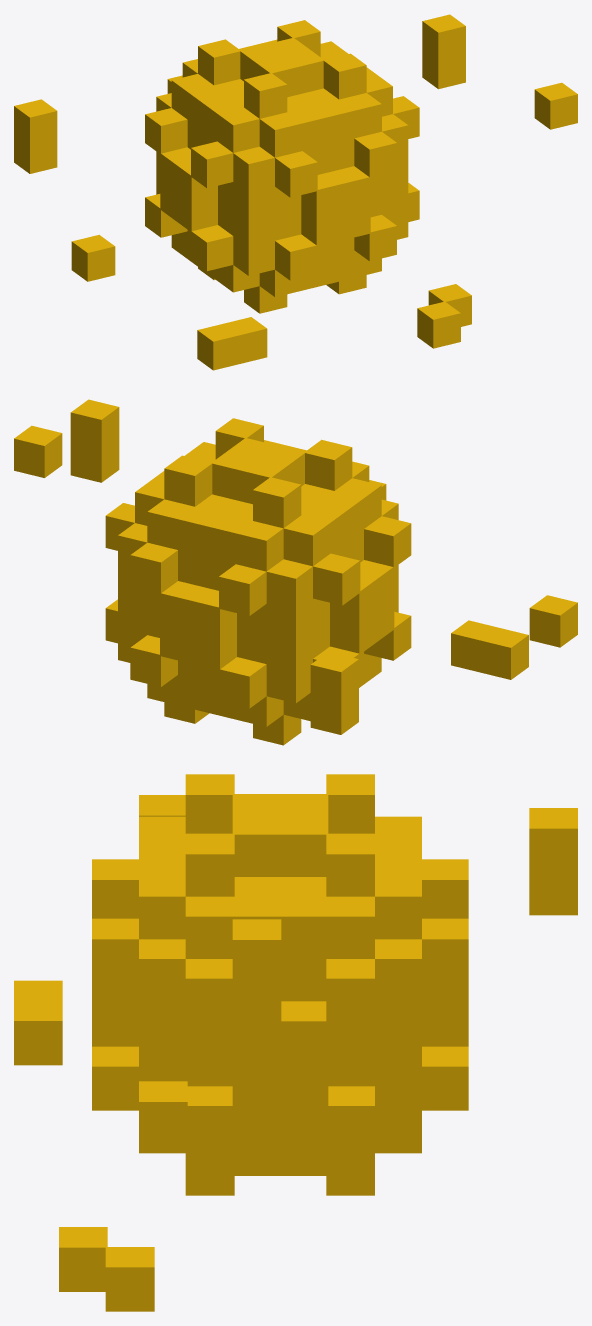
File: Boss_core_BIG.fbx
3 renders of one model, top to bottom at view 1: azimuth 30°, elevation 25°; view 2: azimuth 150°, elevation 25°; view 3: azimuth 270°, elevation 25°, orthographic. The views are drawn at different scales.
Visible parts, largest first — view 1: Boss_core_BIG266, Boss_core_BIG274, Boss_core_BIG265, Boss_core_BIG271, Boss_core_BIG270, Boss_core_BIG268, Boss_core_BIG104, Boss_core_BIG96, Boss_core_BIG73, Boss_core_BIG82, Boss_core_BIG106, Boss_core_BIG129 (+48 smaller); view 2: Boss_core_BIG268, Boss_core_BIG265, Boss_core_BIG270, Boss_core_BIG266, Boss_core_BIG271, Boss_core_BIG119, Boss_core_BIG97, Boss_core_BIG103, Boss_core_BIG84, Boss_core_BIG108, Boss_core_BIG130, Boss_core_BIG96 (+51 smaller); view 3: Boss_core_BIG268, Boss_core_BIG273, Boss_core_BIG265, Boss_core_BIG272, Boss_core_BIG82, Boss_core_BIG270, Boss_core_BIG75, Boss_core_BIG74, Boss_core_BIG84, Boss_core_BIG130, Boss_core_BIG114, Boss_core_BIG100 (+59 smaller).
Part boxes in pixels (x1,y1,x2,y2): Boss_core_BIG266: [71, 234, 115, 281]; Boss_core_BIG274: [417, 301, 460, 348]; Boss_core_BIG265: [534, 82, 577, 129]; Boss_core_BIG271: [197, 323, 240, 370]; Boss_core_BIG270: [14, 99, 57, 145]; Boss_core_BIG268: [422, 14, 465, 61]; Boss_core_BIG104: [275, 151, 317, 197]; Boss_core_BIG96: [191, 141, 233, 188]; Boss_core_BIG73: [244, 73, 287, 118]; Boss_core_BIG82: [323, 53, 366, 99]; Boss_core_BIG106: [275, 234, 317, 280]; Boss_core_BIG129: [191, 225, 233, 271]; Boss_core_BIG268: [70, 399, 119, 451]; Boss_core_BIG265: [14, 425, 62, 477]; Boss_core_BIG270: [310, 651, 358, 703]; Boss_core_BIG266: [529, 595, 577, 647]; Boss_core_BIG271: [480, 628, 528, 679]; Boss_core_BIG119: [219, 564, 266, 615]; Boss_core_BIG97: [313, 553, 360, 605]; Boss_core_BIG103: [253, 477, 301, 528]; Boss_core_BIG84: [164, 455, 212, 506]; Boss_core_BIG108: [219, 657, 266, 708]; Boss_core_BIG130: [130, 542, 177, 594]; Boss_core_BIG96: [364, 516, 411, 567]; Boss_core_BIG268: [232, 919, 281, 984]; Boss_core_BIG273: [105, 1247, 154, 1311]; Boss_core_BIG265: [139, 1081, 187, 1146]; Boss_core_BIG272: [14, 1000, 62, 1065]; Boss_core_BIG82: [185, 833, 234, 896]; Boss_core_BIG270: [529, 808, 577, 872]; Boss_core_BIG75: [326, 1086, 374, 1150]; Boss_core_BIG74: [326, 959, 374, 1022]; Boss_core_BIG84: [326, 833, 374, 896]; Boss_core_BIG130: [422, 918, 468, 983]; Boss_core_BIG114: [92, 918, 138, 983]; Boss_core_BIG100: [279, 1001, 328, 1065].
Size of the model in its own units: 445 by 225 by 289.
